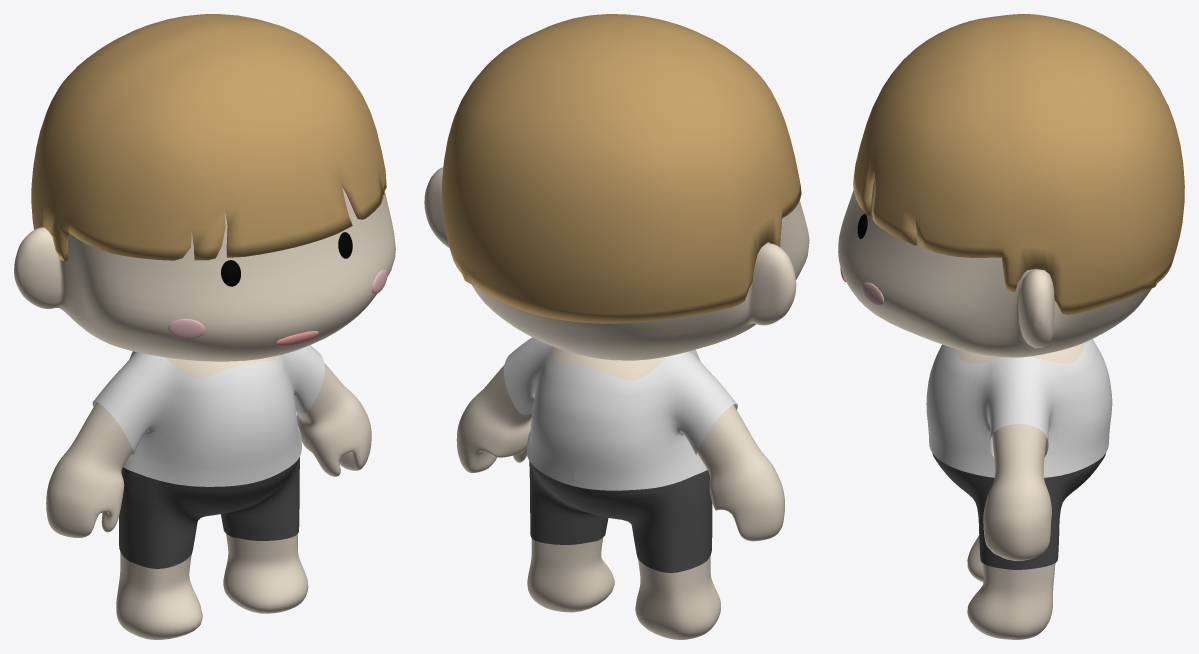
The model's file is Boy_cloth.fbx.
3 renders of one model, left to right at view 1: azimuth 30°, elevation 25°; view 2: azimuth 150°, elevation 25°; view 3: azimuth 270°, elevation 25°, orthographic. The views are drawn at different scales.
Visible parts, largest first — view 1: Cube.011, Cube.006, Cube.007, Cube.018, Cube.020, Sphere.001, Sphere; view 2: Cube.011, Cube.007, Cube.018, Cube.006, Cube.020; view 3: Cube.011, Cube.006, Cube.018, Cube.007, Cube.020.
Part boxes in pixels (bbox=[...]): Cube.011: bbox=[31, 14, 386, 262]; Cube.006: bbox=[14, 187, 395, 361]; Cube.007: bbox=[46, 356, 371, 639]; Cube.018: bbox=[92, 345, 324, 486]; Cube.020: bbox=[119, 457, 299, 568]; Sphere.001: bbox=[168, 269, 387, 338]; Sphere: bbox=[221, 232, 352, 286]; Cube.011: bbox=[441, 14, 801, 323]; Cube.007: bbox=[456, 347, 784, 639]; Cube.018: bbox=[503, 337, 737, 490]; Cube.006: bbox=[424, 167, 809, 360]; Cube.020: bbox=[529, 461, 712, 572]; Cube.011: bbox=[853, 14, 1184, 314]; Cube.006: bbox=[838, 179, 1151, 357]; Cube.018: bbox=[926, 339, 1112, 477]; Cube.007: bbox=[955, 342, 1084, 639]; Cube.020: bbox=[932, 453, 1105, 569].
Bounding box in the file's own units: 232 × 352 × 194.
